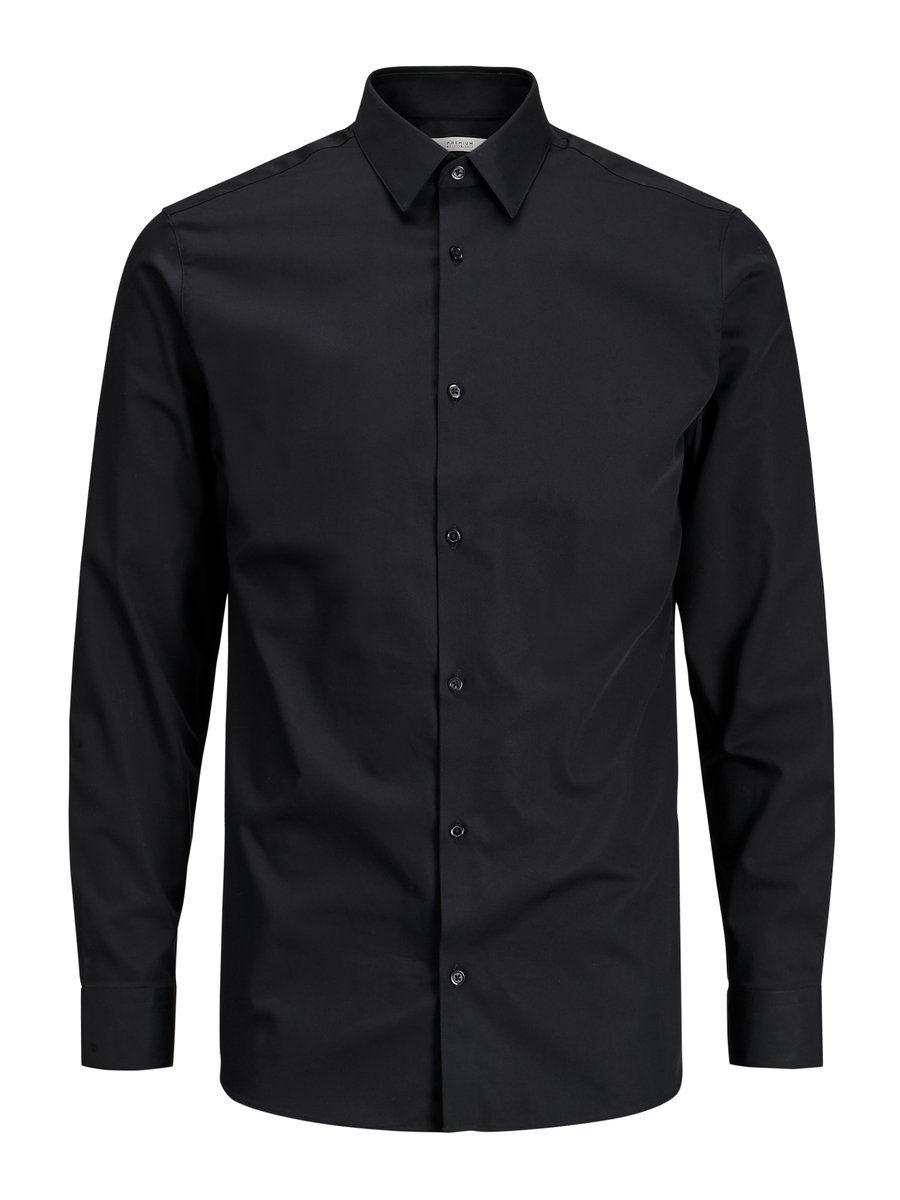teeshirt: (56, 62, 838, 1134)
